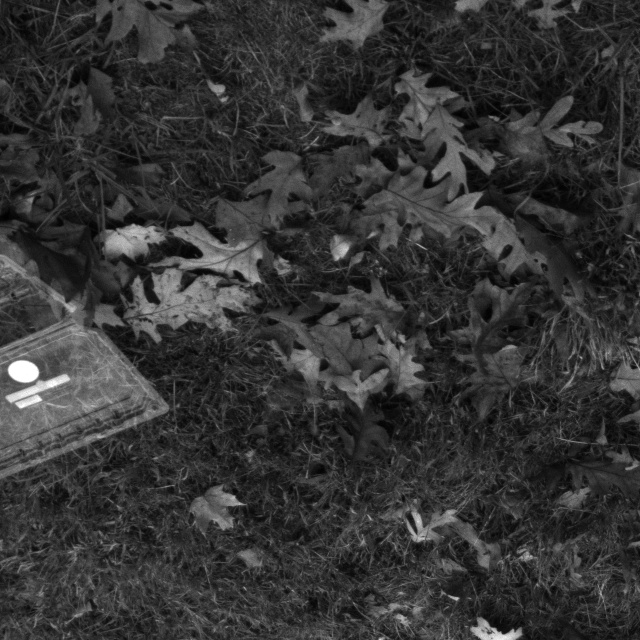container: (0, 219, 175, 489)
